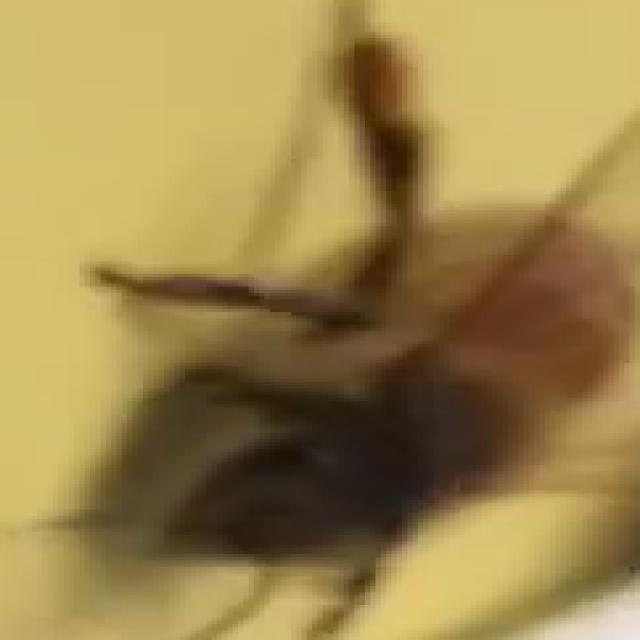honeybee: (179, 83, 640, 640)
